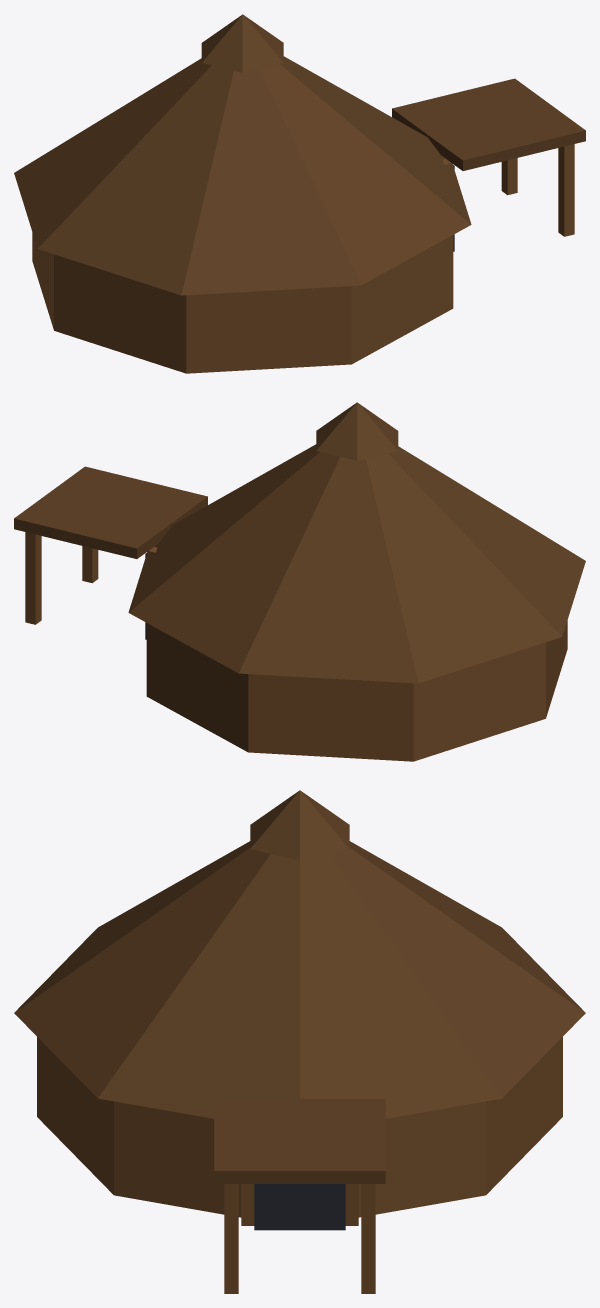
The model's file is ruca_mapuche.obj.
3 renders of one model, top to bottom at view 1: azimuth 30°, elevation 25°; view 2: azimuth 150°, elevation 25°; view 3: azimuth 270°, elevation 25°, orthographic. The views are drawn at different scales.
Parts seen in each view (by area): view 1: ruca_mapuche; view 2: ruca_mapuche; view 3: ruca_mapuche.
Part boxes in pixels (x1,y1,x2,y2): ruca_mapuche: (14,14,585,373); ruca_mapuche: (14,402,585,761); ruca_mapuche: (14,790,585,1293).
Bounding box in the file's own units: 12.5 × 6.3 × 10.
